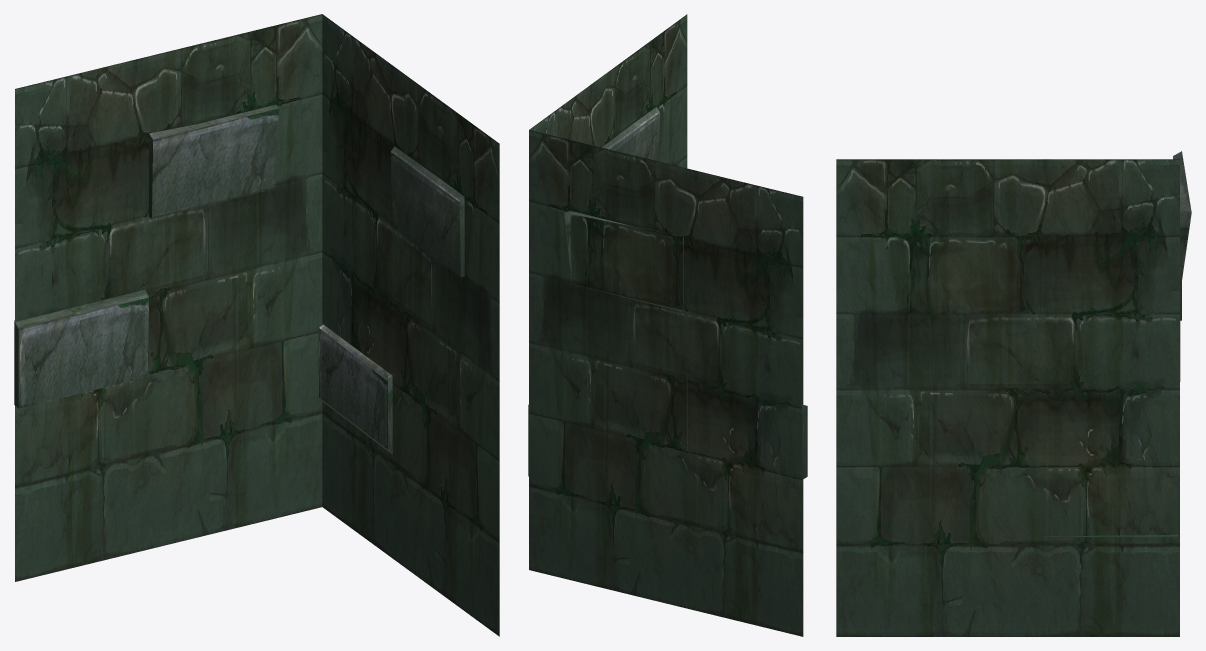
The model's file is stemple_wall_concave_04.fbx.
The picture shows the model from 3 angles, left to right: view 1: azimuth 30°, elevation 25°; view 2: azimuth 150°, elevation 25°; view 3: azimuth 270°, elevation 25°; orthographic projection. The views are drawn at different scales.
Parts seen in each view (by area): view 1: stemple_wall_concave_04-0; view 2: stemple_wall_concave_04-0; view 3: stemple_wall_concave_04-0.
Boxes of the visible parts, left/top/right/bottom form: stemple_wall_concave_04-0: left=14, top=14, right=499, bottom=636; stemple_wall_concave_04-0: left=528, top=14, right=807, bottom=636; stemple_wall_concave_04-0: left=836, top=151, right=1191, bottom=636.
Bounding box in the file's own units: 3.61 × 5.5 × 3.71.
